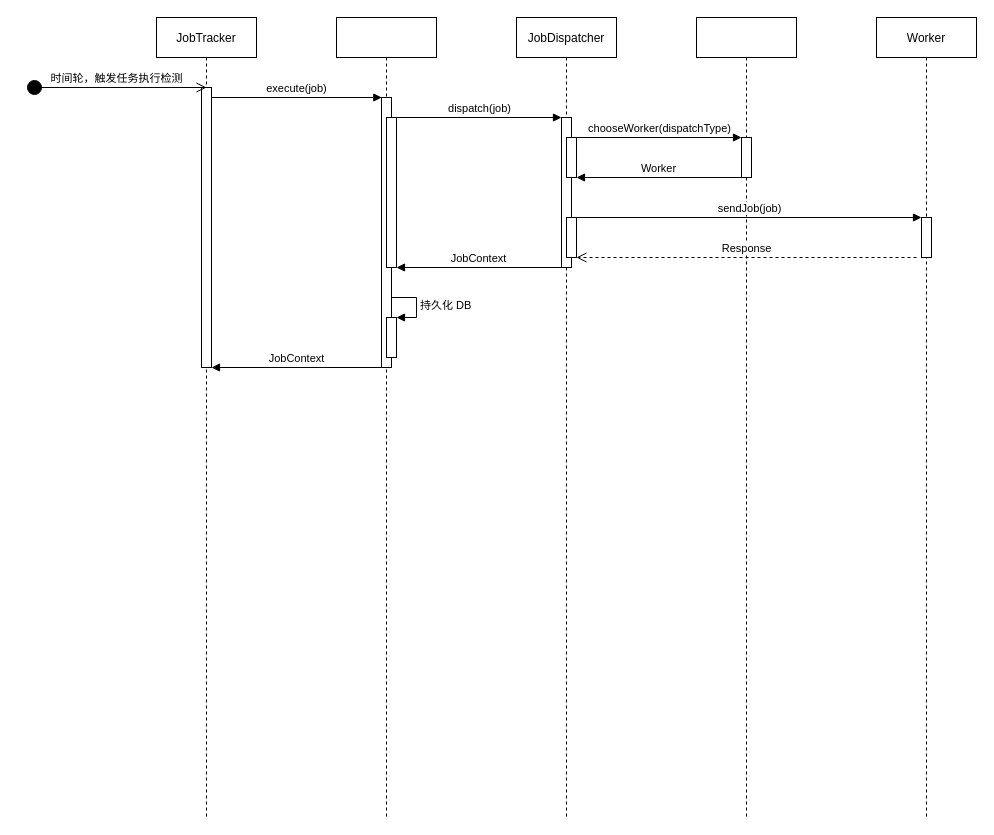
Some shapes in this 994 by 835 pixel diagram are drawn without their labels. Here are the shapes that lost their labels. From the top down, the box of each, then its label:
(336, 16, 436, 818): JobExecutor
(696, 16, 796, 818): WorkerChooser
